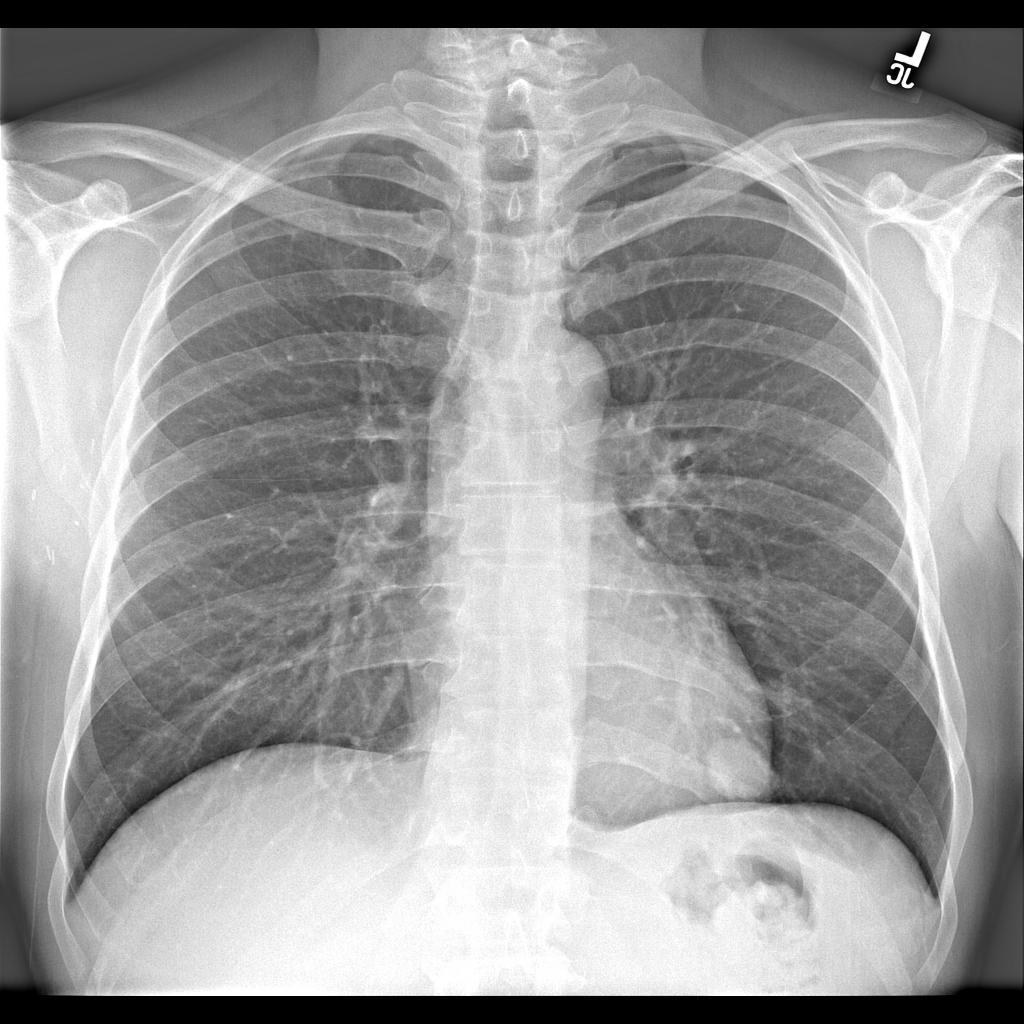Nodule: (698, 722, 784, 819)
